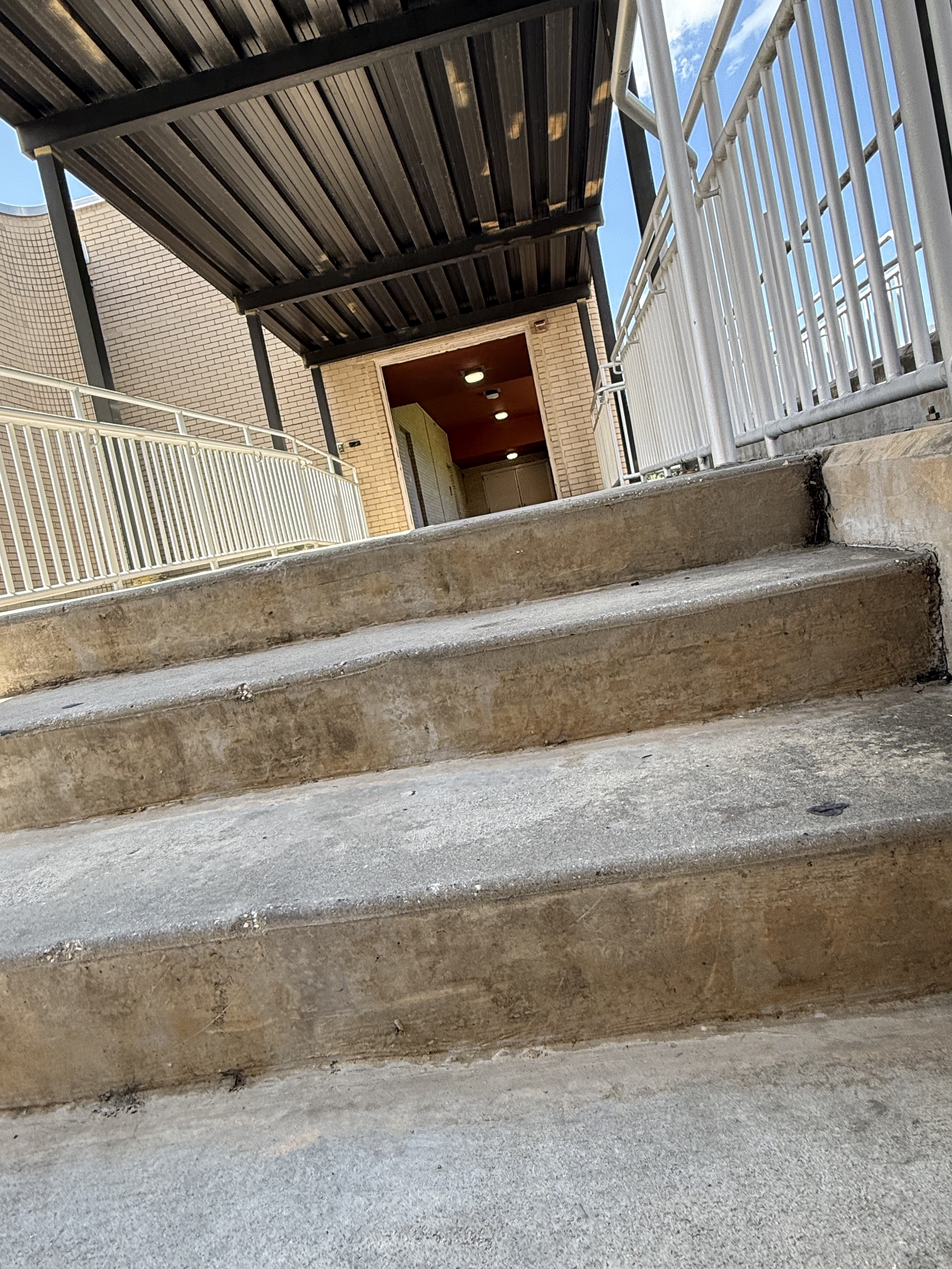stairs: (2, 454, 952, 1107)
